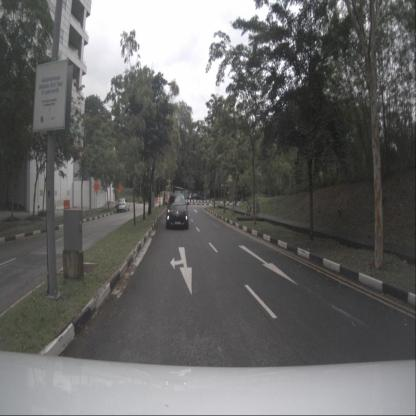vehicle-bicycle: (245, 200, 253, 217), (254, 201, 260, 216)
vehicle-car: (166, 193, 189, 229), (117, 198, 129, 213), (191, 192, 204, 202), (189, 192, 195, 200)
